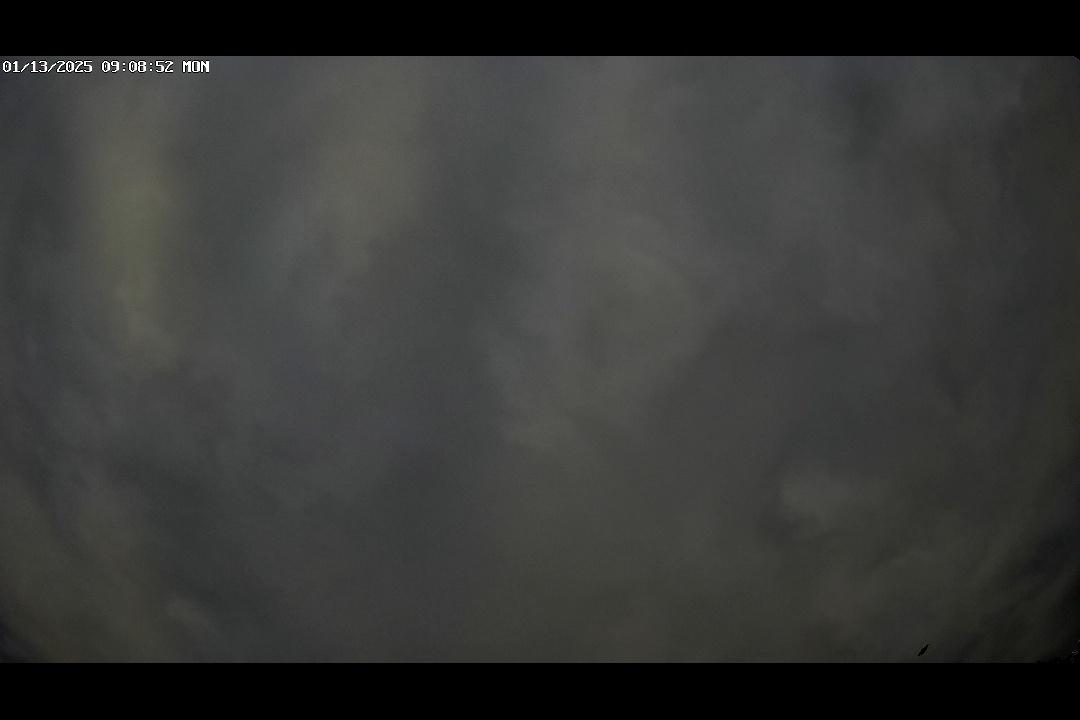WildLife: (907, 640, 938, 660)
